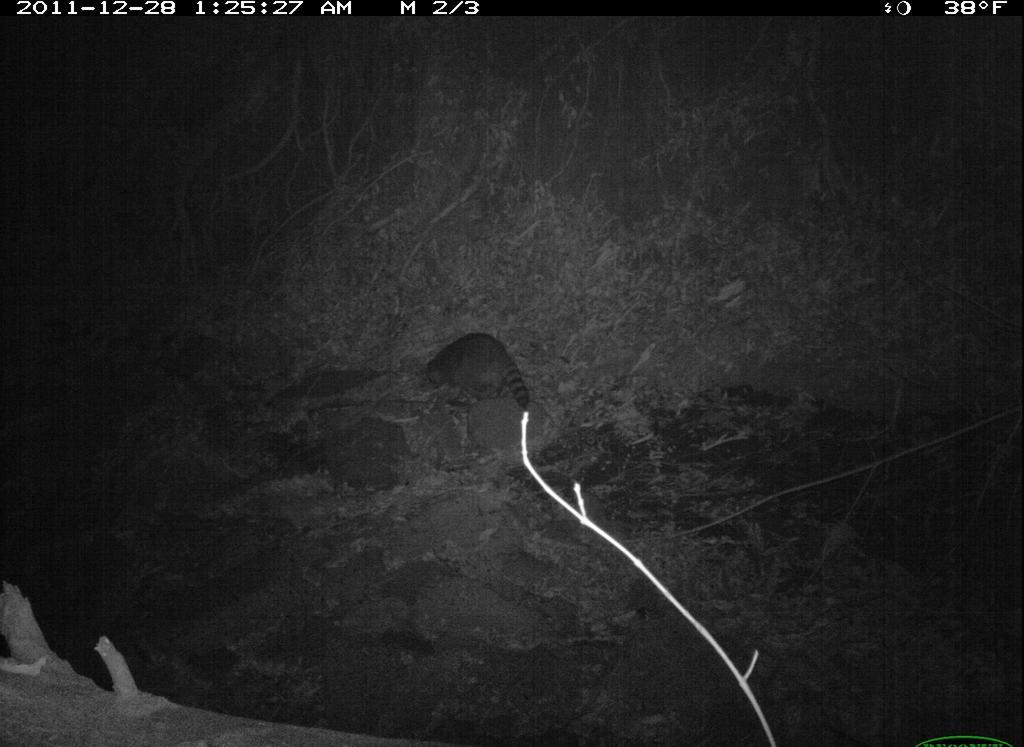raccoon: (423, 323, 542, 427)
